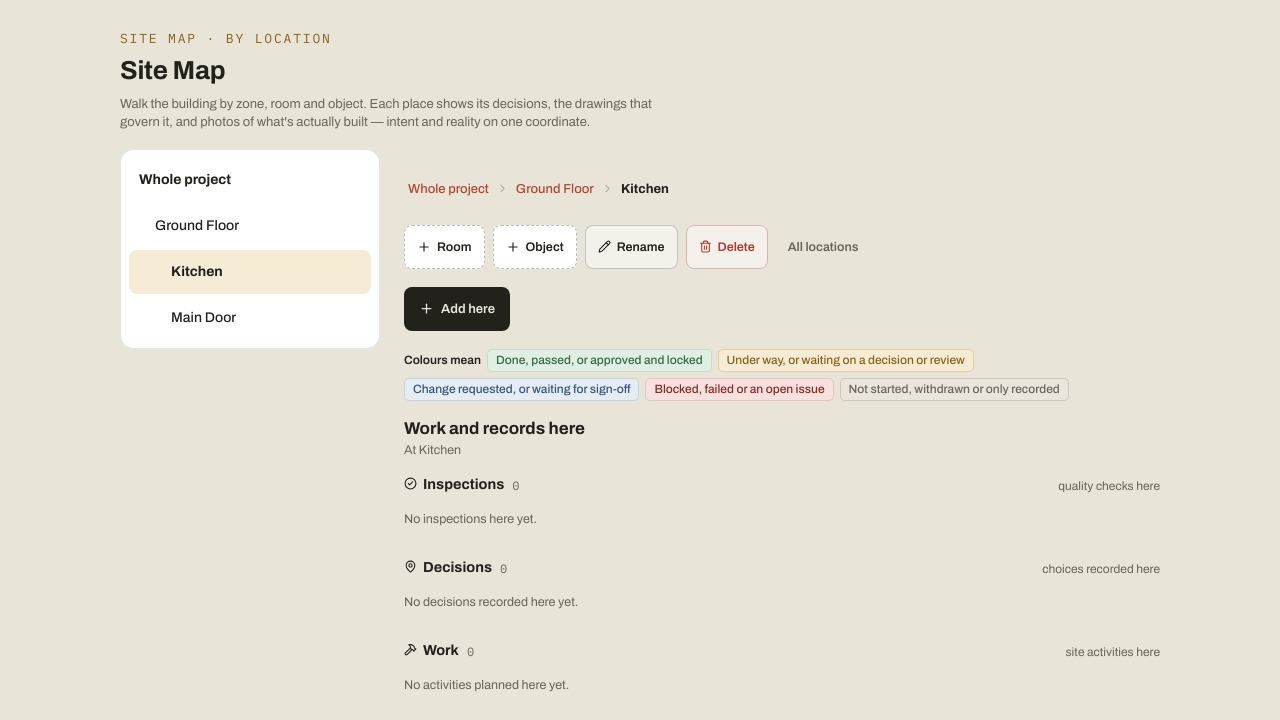
it: B4 — a location delete is confirmed first › a delete opened for a place another PMC removes never re-opens for the next place viewed (Codex 4175744399)
Click the button with test id "place-delete" at coordinates (727, 247), box [686, 225, 768, 269]
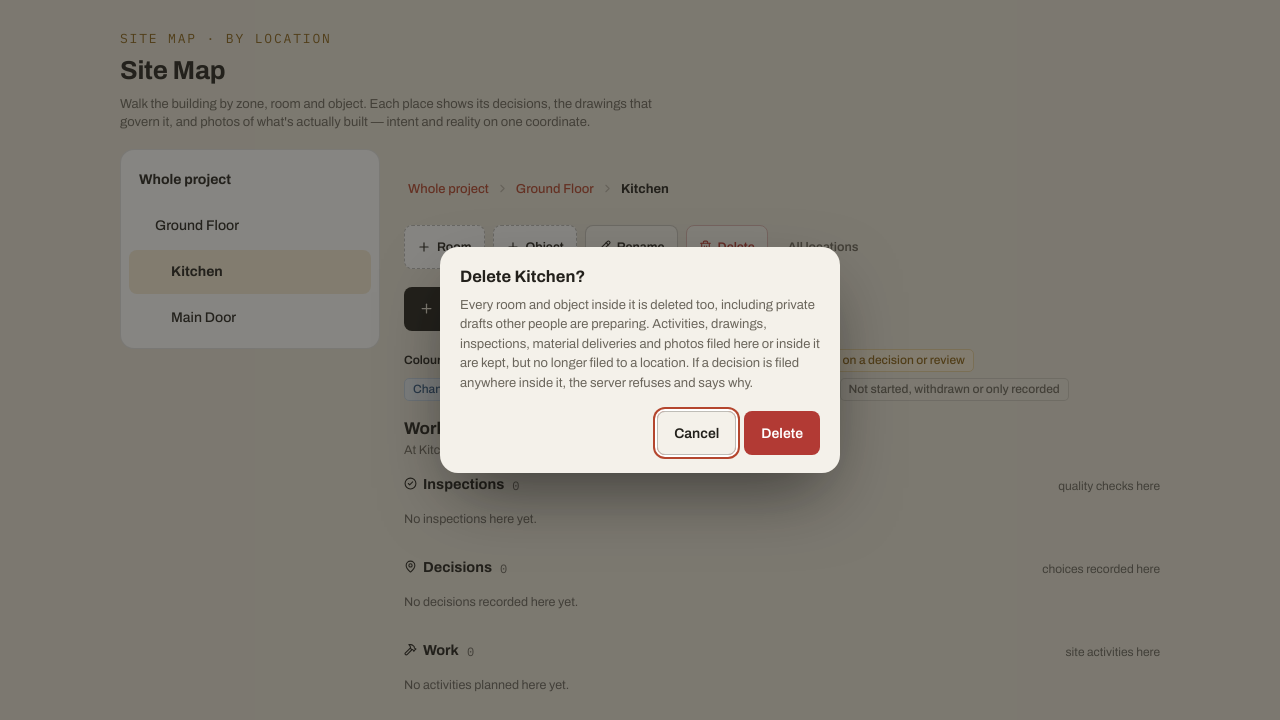
Expected: the element with test id "confirm-location-delete" is shown, [440, 247, 840, 473]
